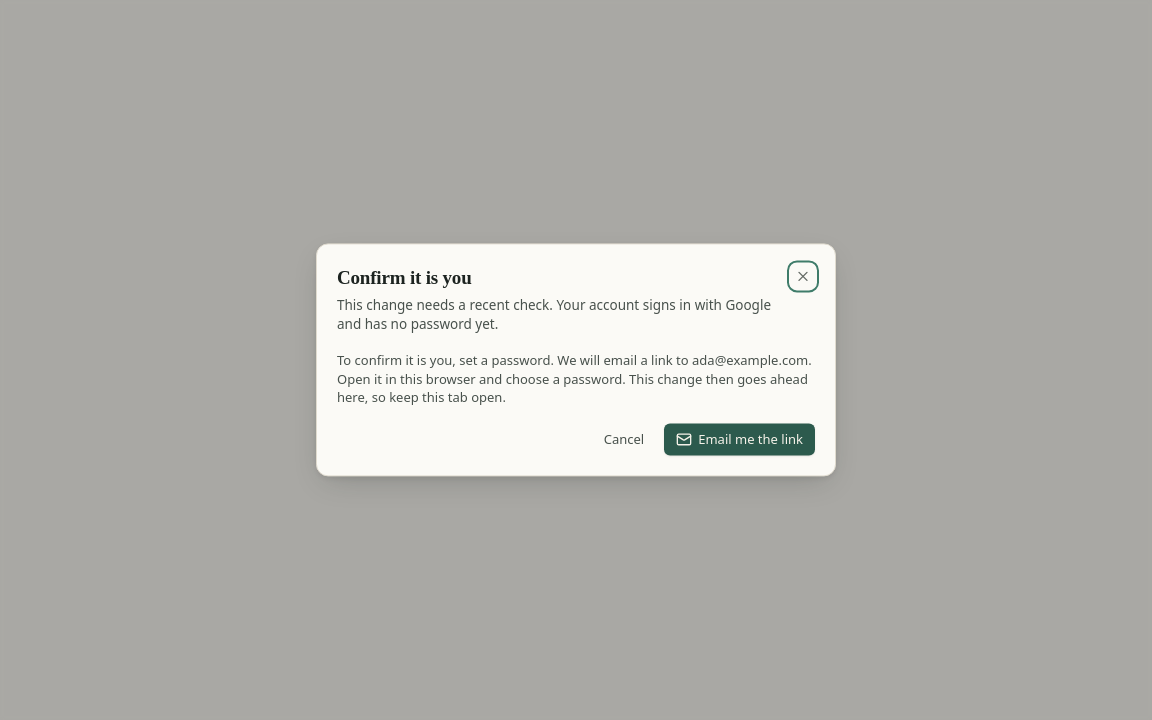
Scenario: re-authentication without a password › without an authenticator: offers the emailed link that sets a password, naming this section to come back to
Later steps or results of the test are not shown.
Expected: the text "To confirm it is you, set a password." is shown, [337,351,692,369]
What coordinates should you click on to do the following:
click the button "Email me the link"
I would click on:
 (740, 440)
Its box is [664,424,815,456].
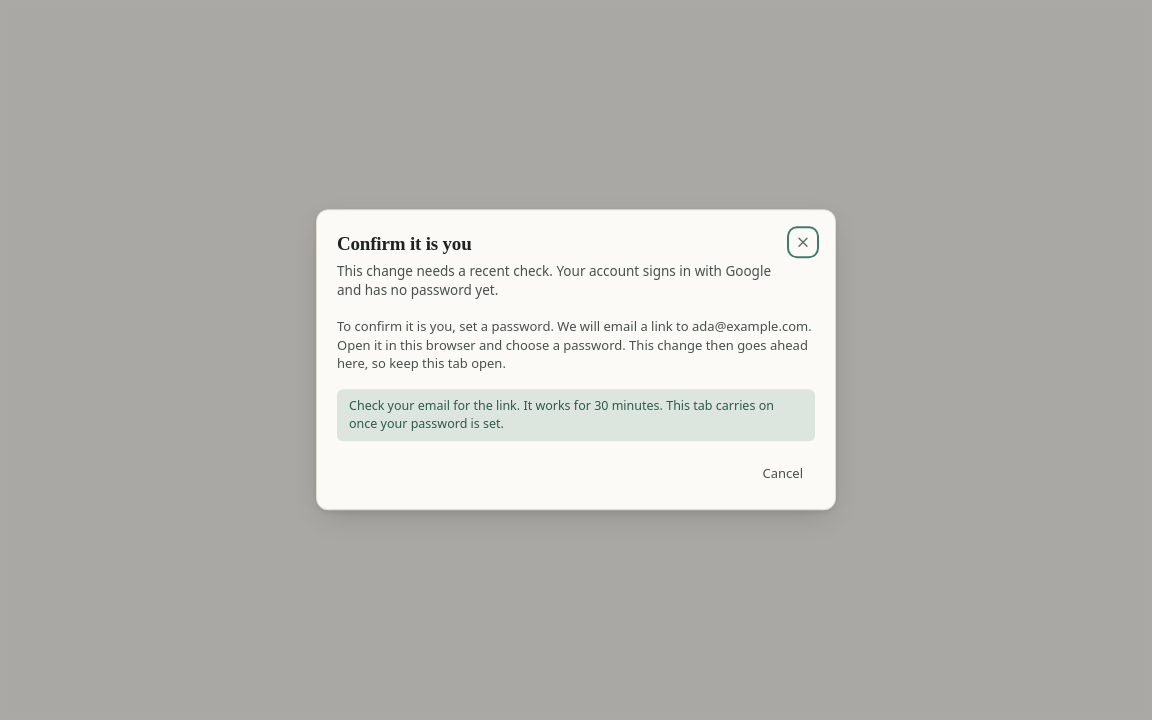
Expected: the text "Check your email for the link." is shown, [349,398,774,433]
